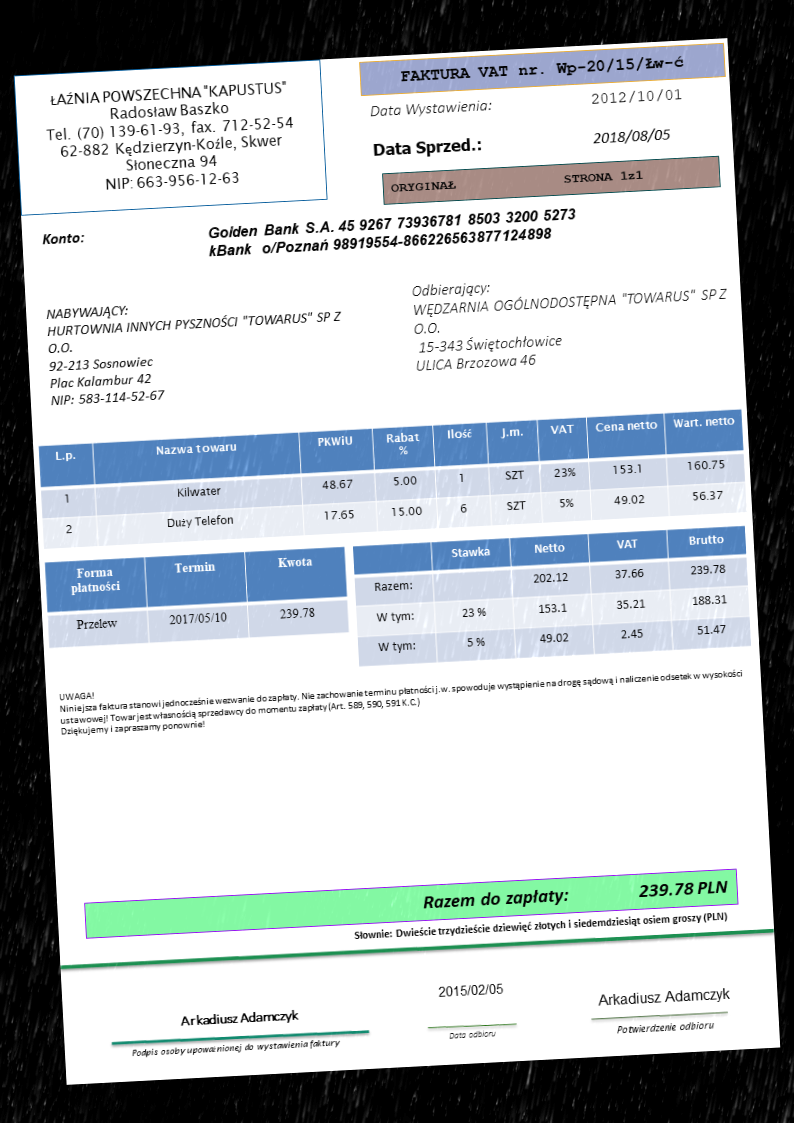Table: (37, 408, 748, 552), (351, 524, 752, 667), (42, 545, 350, 650)
TextBox: (56, 655, 745, 738), (43, 290, 348, 408), (409, 266, 732, 375), (42, 77, 299, 195), (205, 206, 579, 260), (351, 908, 728, 943), (420, 876, 731, 913), (398, 51, 688, 86), (387, 165, 645, 197), (129, 1034, 343, 1061), (595, 985, 733, 1011), (368, 96, 495, 122), (370, 134, 484, 161), (178, 1007, 301, 1030), (589, 86, 686, 109), (613, 1018, 715, 1036), (591, 126, 673, 146), (435, 980, 504, 1000), (40, 229, 85, 248), (446, 1027, 496, 1041)
